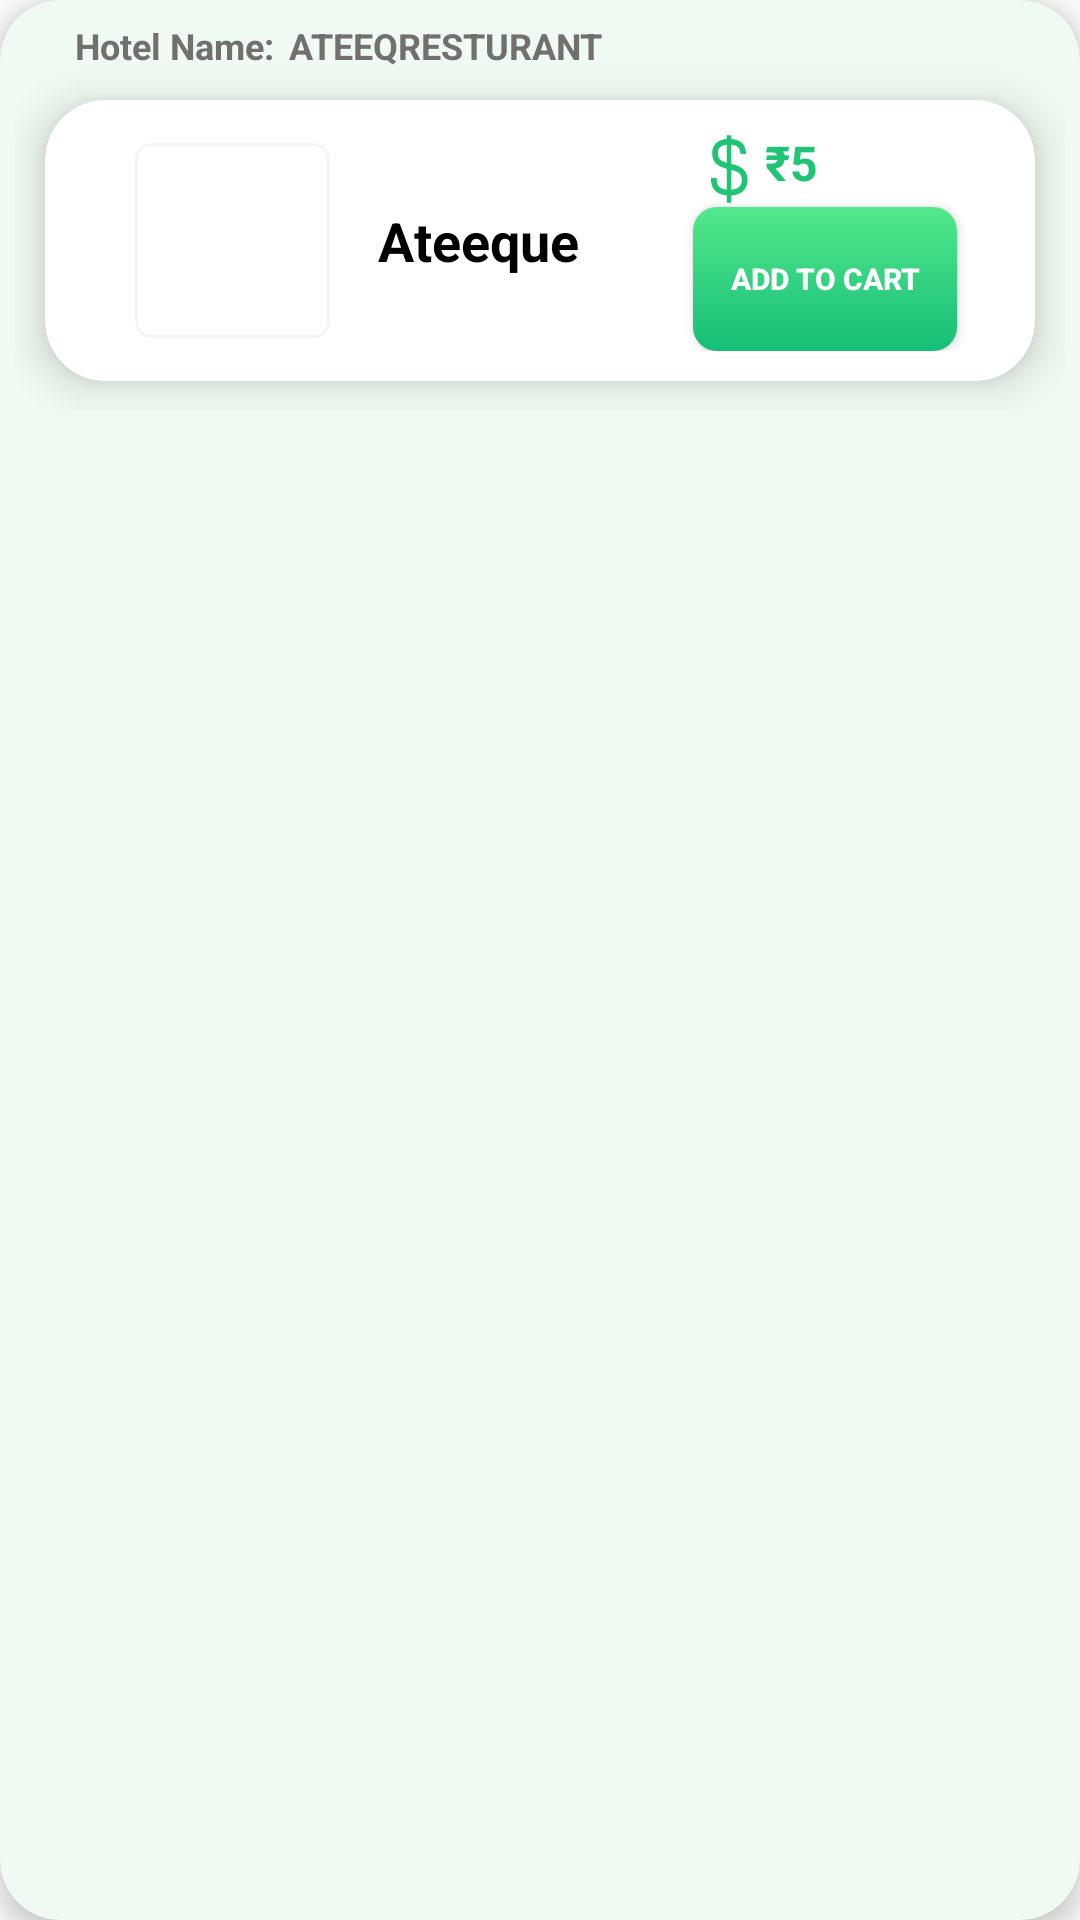

Where to tap for icons on this 1080×1920 app screen, as [x,y]:
dollar: [729,169]
